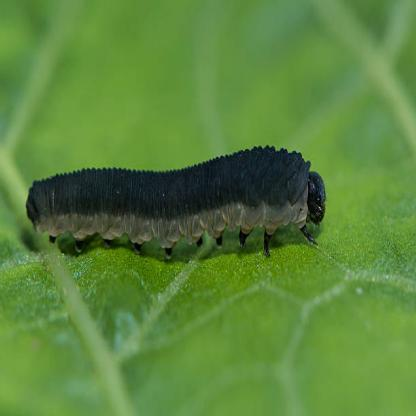sawfly: (18, 140, 330, 276)
